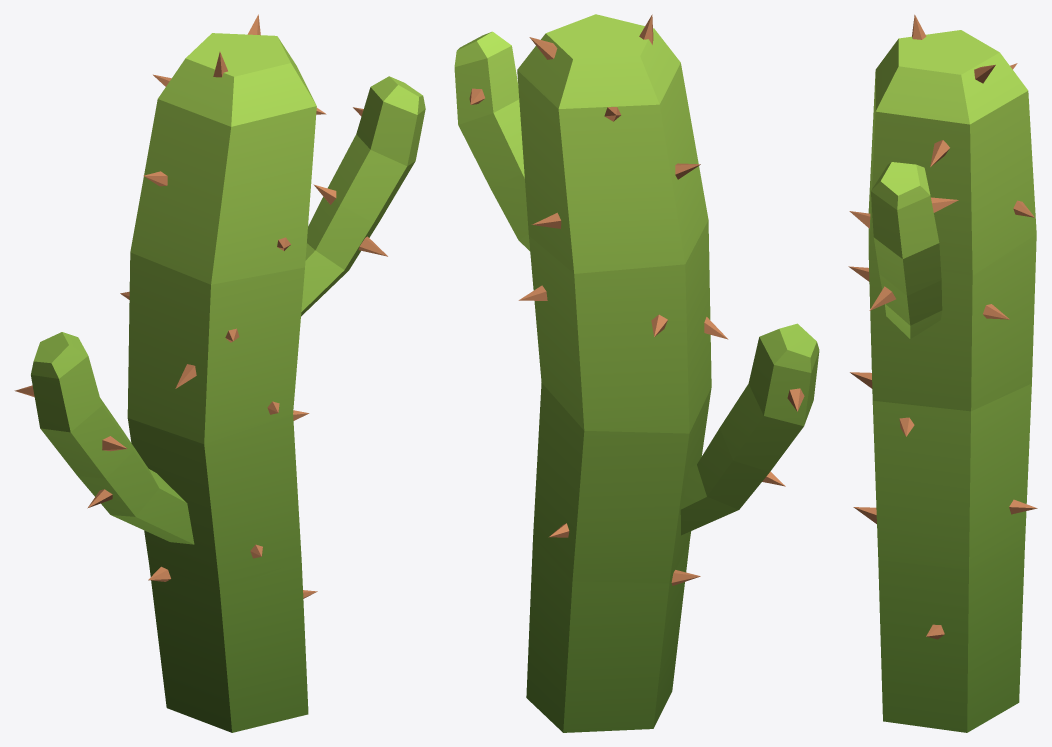
The model's file is cactus.glb.
3 views of the same model, side by side, from view 1: azimuth 30°, elevation 25°; view 2: azimuth 150°, elevation 25°; view 3: azimuth 270°, elevation 25° (orthographic). The views are drawn at different scales.
Parts seen in each view (by area): view 1: Cylinder.002, Cone.021; view 2: Cylinder.002, Cone.021; view 3: Cylinder.002, Cone.021.
Part boxes in pixels (x1,y1,x2,y2): Cylinder.002: (31,33,425,732); Cone.021: (14,14,387,598); Cylinder.002: (454,14,819,732); Cone.021: (469,14,804,585); Cylinder.002: (868,30,1036,732); Cone.021: (848,14,1037,639).
Size of the model in its own units: 5.08 by 8.78 by 2.25.
3 materials, 3 textured.
